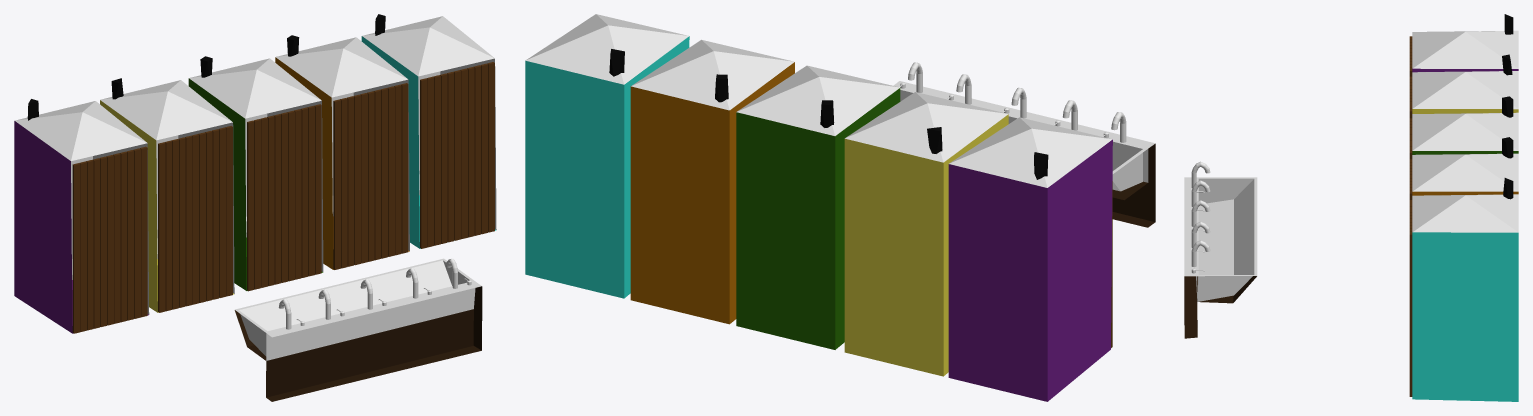
Rendered from Beach Restrooms.glb.
3 views of the same model, side by side, from view 1: azimuth 30°, elevation 25°; view 2: azimuth 150°, elevation 25°; view 3: azimuth 270°, elevation 25° (orthographic). The views are drawn at different scales.
Parts seen in each view (by area): view 1: Bathrooms, Handwashing Sink, Door.004, Door.002, Door.003, Door.001, Door; view 2: Bathrooms, Handwashing Sink; view 3: Bathrooms, Handwashing Sink, Door.003.
Boxes of the visible parts, x1,y1,x2,y2 form: Bathrooms: (14, 14, 496, 333); Handwashing Sink: (234, 258, 482, 401); Door.004: (72, 146, 147, 333); Door.002: (333, 83, 408, 269); Door.003: (420, 62, 494, 248); Door.001: (247, 104, 321, 291); Door: (158, 126, 232, 312); Bathrooms: (525, 14, 1112, 401); Handwashing Sink: (893, 62, 1155, 227); Bathrooms: (1412, 14, 1518, 401); Handwashing Sink: (1184, 161, 1257, 338); Door.003: (1409, 200, 1412, 396).
Size of what is drawn, in the model's own units: 7.79 by 3.41 by 5.46.
